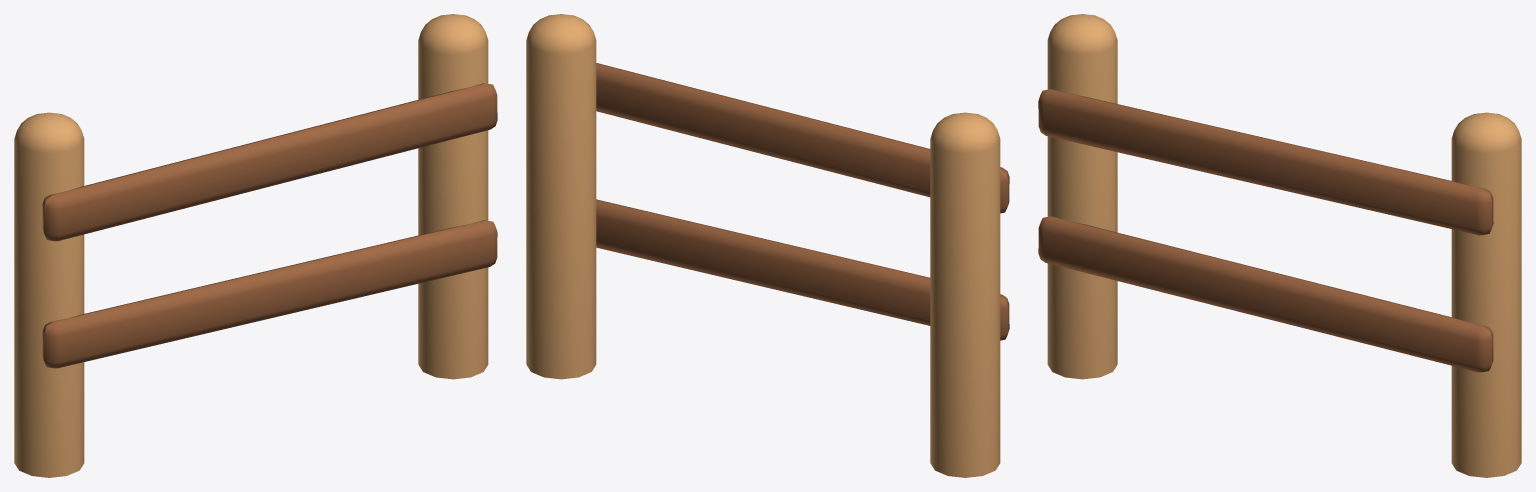
Rendered from prop_fence_wood.glb.
The picture shows the model from 3 angles, left to right: view 1: azimuth 30°, elevation 25°; view 2: azimuth 150°, elevation 25°; view 3: azimuth 330°, elevation 25°; orthographic projection.
Parts seen in each view (by area): view 1: prop_fence_wood; view 2: prop_fence_wood; view 3: prop_fence_wood.
Part boxes in pixels (x1,y1,x2,y2): prop_fence_wood: (14,14,497,477); prop_fence_wood: (526,14,1009,477); prop_fence_wood: (1038,14,1521,477).
Size of the model in its own units: 1.15 by 0.82 by 0.18.
